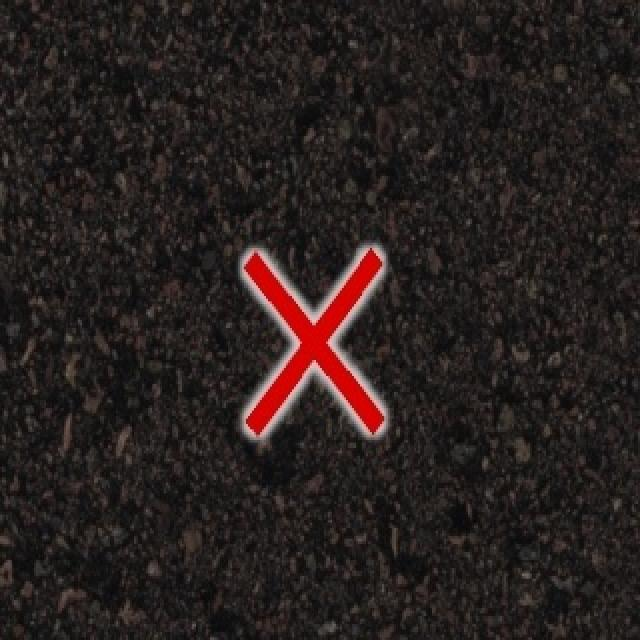x_marker: (243, 250, 383, 433)
